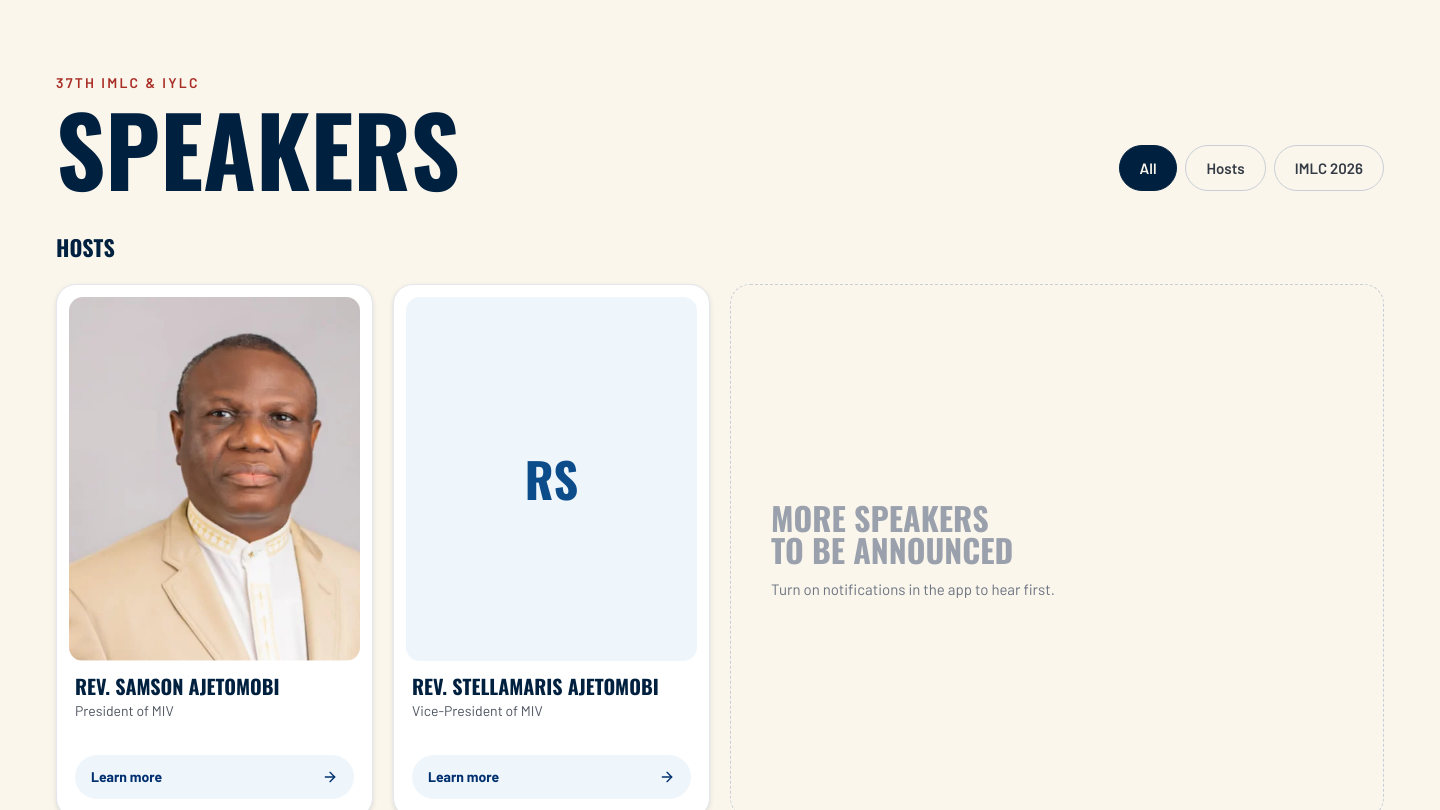
Test: SpeakersView › opens the profile drawer from Learn more, with the full bio, and closes it
The image size is (1440, 810).
Click the link "Learn more" below "Rev. Samson Ajetomobi". click: point(127, 777)
box: [75,755,354,799]
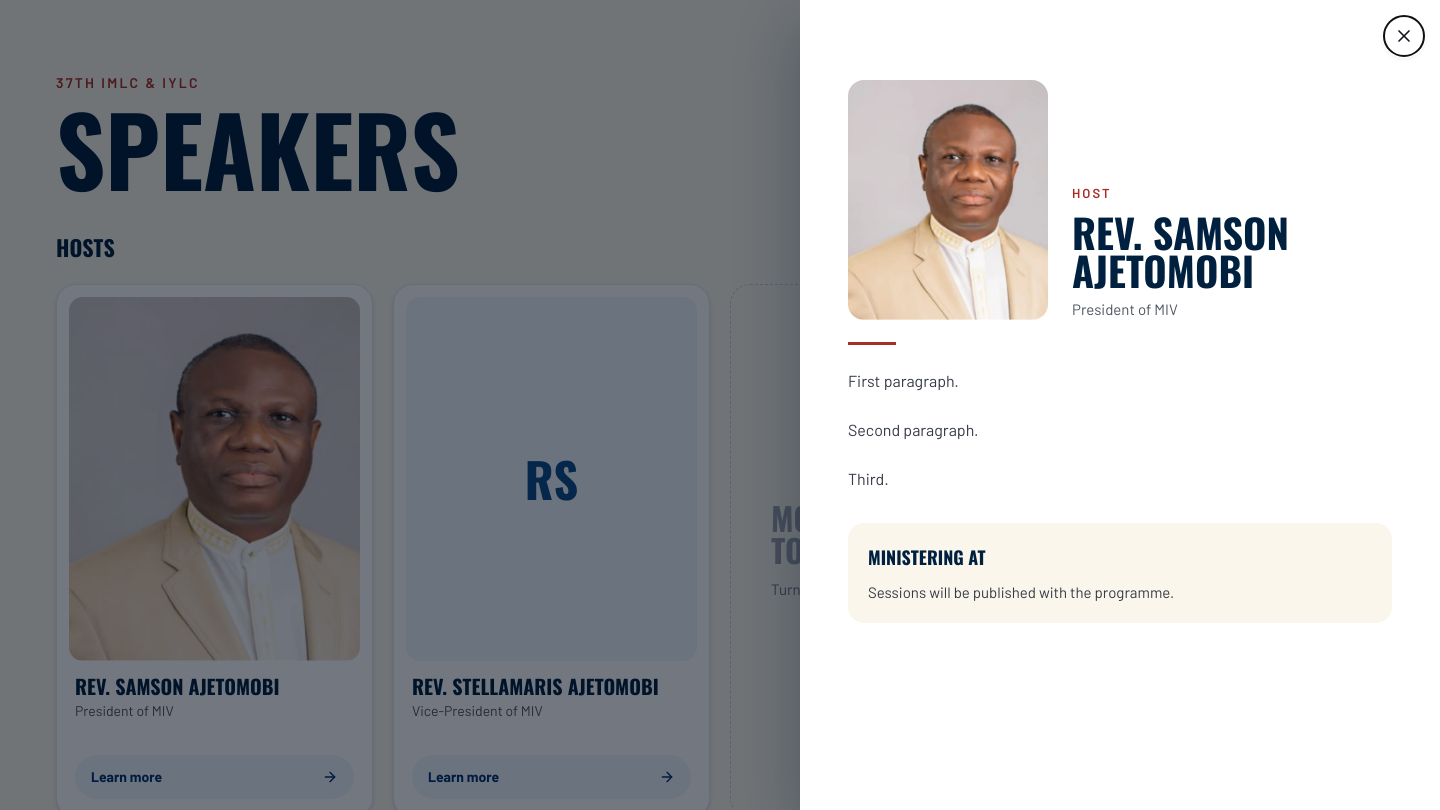
Expected: the text "Host" is shown, [1072,184,1112,200]
Expected: the text "First paragraph." is shown, [848,371,959,390]
Expected: the text "Third." is shown, [848,469,889,488]
Click the button named "Close". click: point(1404, 36)
box: [1384,16,1424,56]
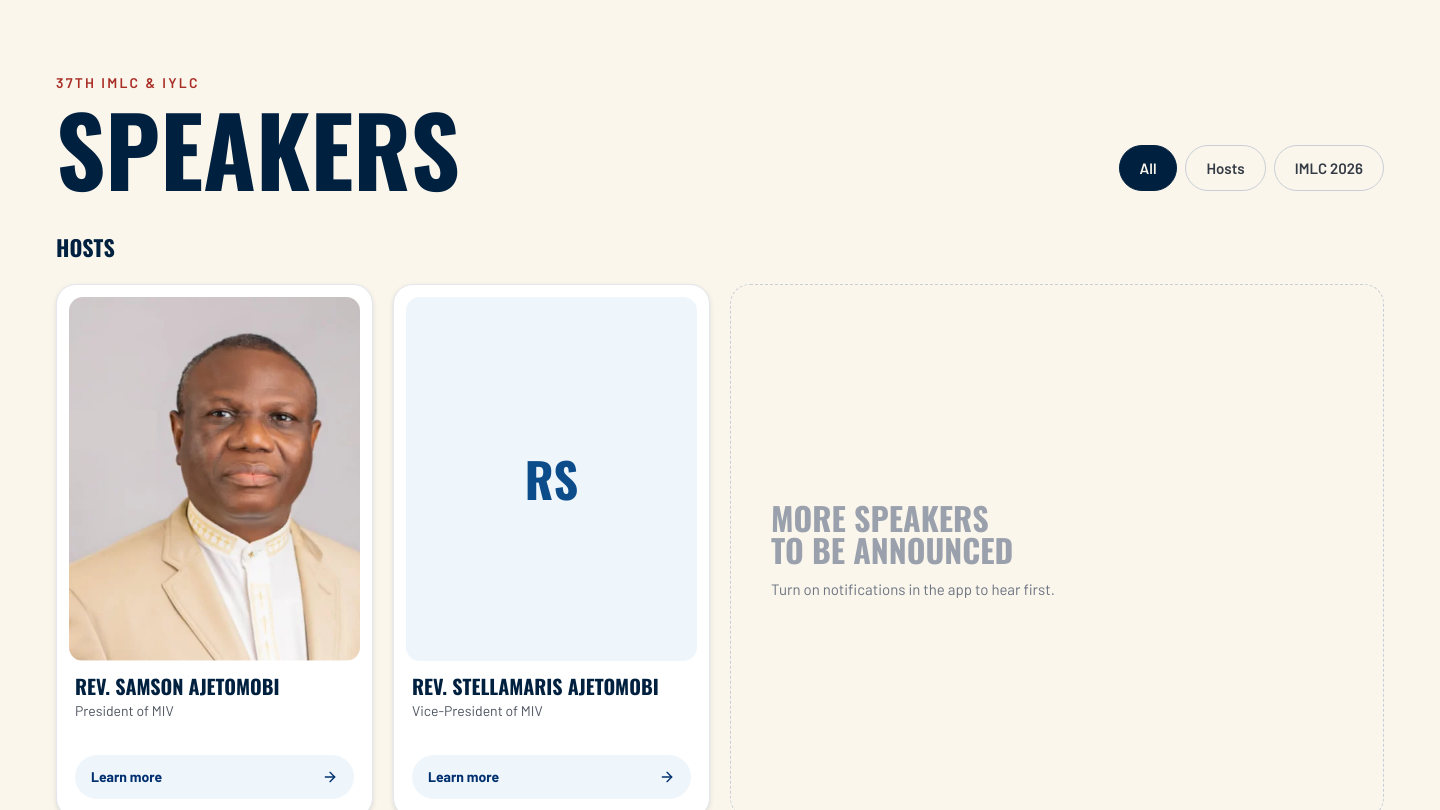
Expected: the dialog is gone
